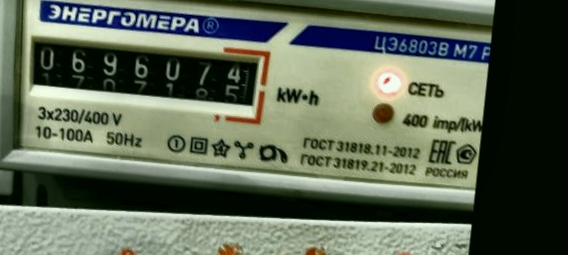0: (36, 44, 58, 70), (163, 54, 182, 82)
4: (225, 59, 243, 83)
5: (223, 82, 241, 104)
6: (131, 51, 152, 79), (68, 46, 89, 73)
7: (195, 58, 213, 86)
9: (100, 48, 119, 76)
screen: (15, 22, 275, 128)
